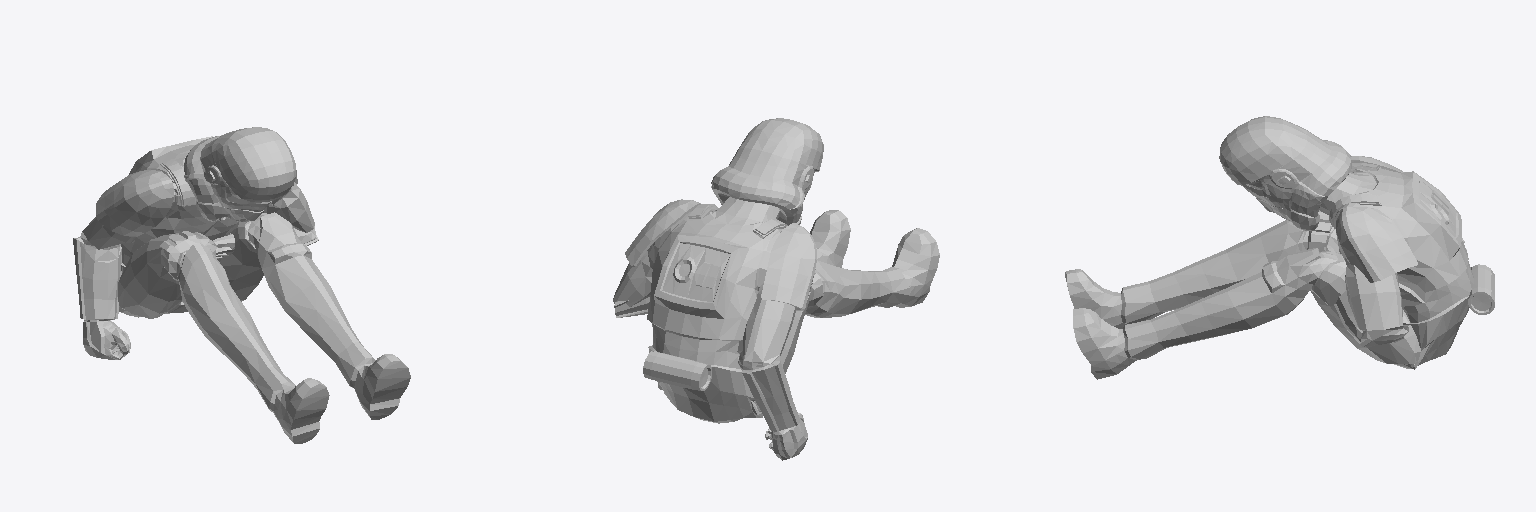
Rendered from Move_000273.obj.
3 views of the same model, side by side, from view 1: azimuth 30°, elevation 25°; view 2: azimuth 150°, elevation 25°; view 3: azimuth 270°, elevation 25° (orthographic).
Size of the model in its own units: 1.37 by 1.66 by 2.48.